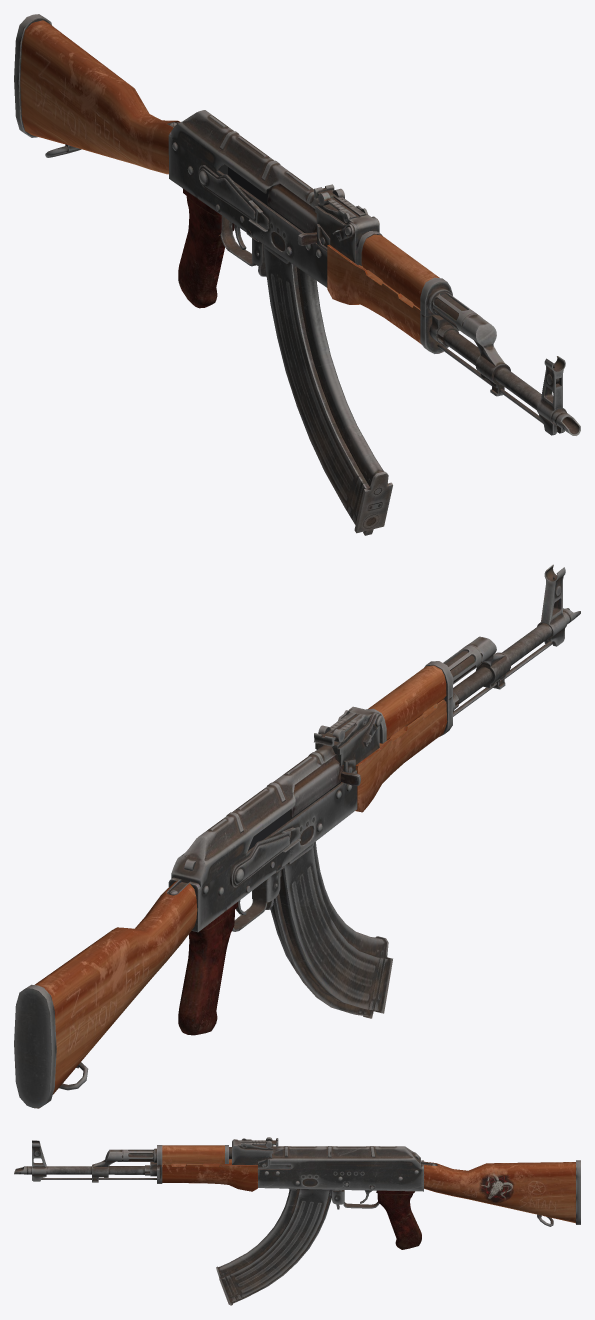
3 renders of one model, top to bottom at view 1: azimuth 30°, elevation 25°; view 2: azimuth 150°, elevation 25°; view 3: azimuth 270°, elevation 25°, orthographic. The views are drawn at different scales.
Visible parts, largest first — view 1: Gun_low, Gun_b_low, Gun_a_low; view 2: Gun_low, Gun_b_low, Gun_a_low; view 3: Gun_low, Gun_b_low, Gun_a_low.
Part boxes in pixels (x1,y1,x2,y2): Gun_low: (20,20,580,535); Gun_b_low: (14,14,566,435); Gun_a_low: (45,110,559,384); Gun_low: (35,608,580,1094); Gun_b_low: (14,564,567,1108); Gun_a_low: (59,576,561,1090); Gun_low: (14,1138,575,1305); Gun_b_low: (32,1137,580,1224); Gun_a_low: (34,1138,553,1226).
Size of the model in its own units: 0.0515 by 0.2797 by 0.87.
1 material, 1 textured.
